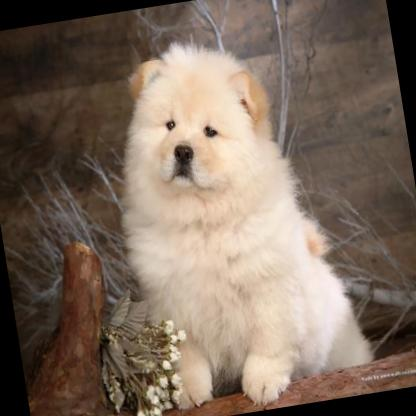chow: (89, 9, 378, 416)
